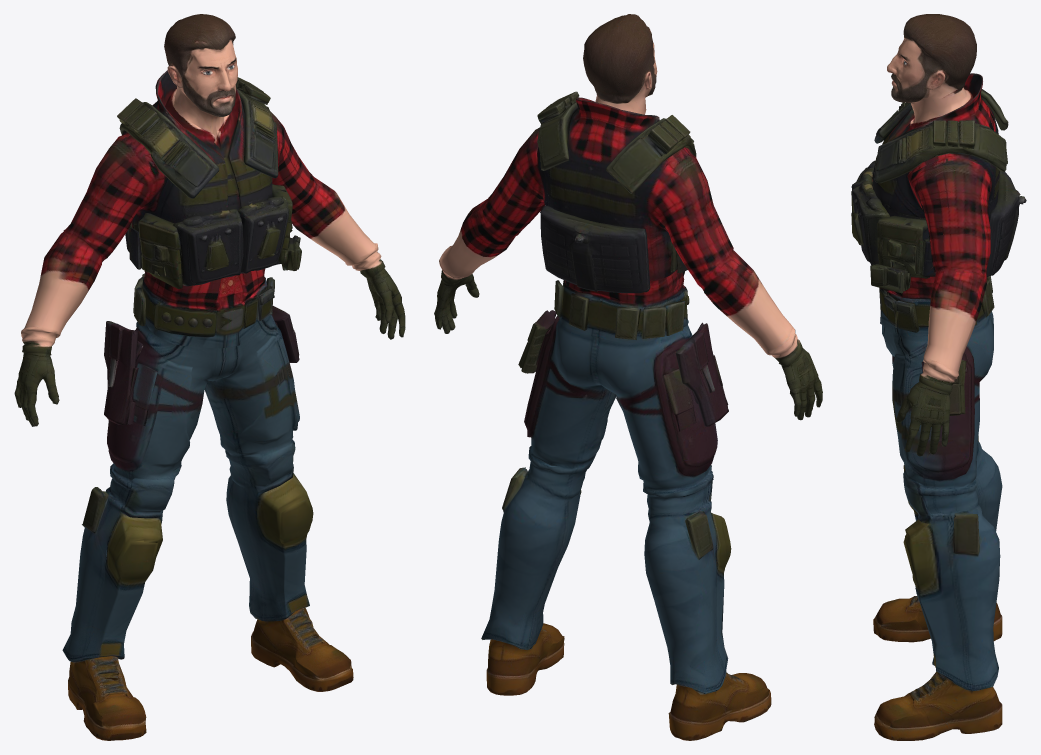
The model's file is chr_soldier_t0.glb.
The picture shows the model from 3 angles, left to right: view 1: azimuth 30°, elevation 25°; view 2: azimuth 150°, elevation 25°; view 3: azimuth 270°, elevation 25°; orthographic projection.
Size of the model in its own units: 0.5542 by 0.9507 by 0.2266.
1 material, 1 textured.
